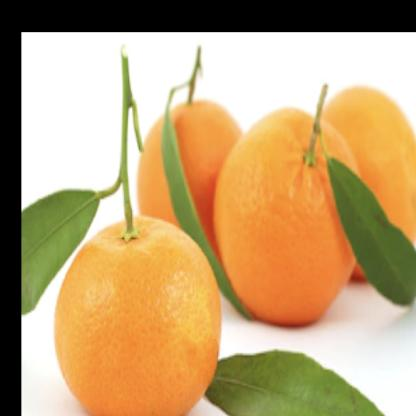fresh: (55, 59, 416, 416)
